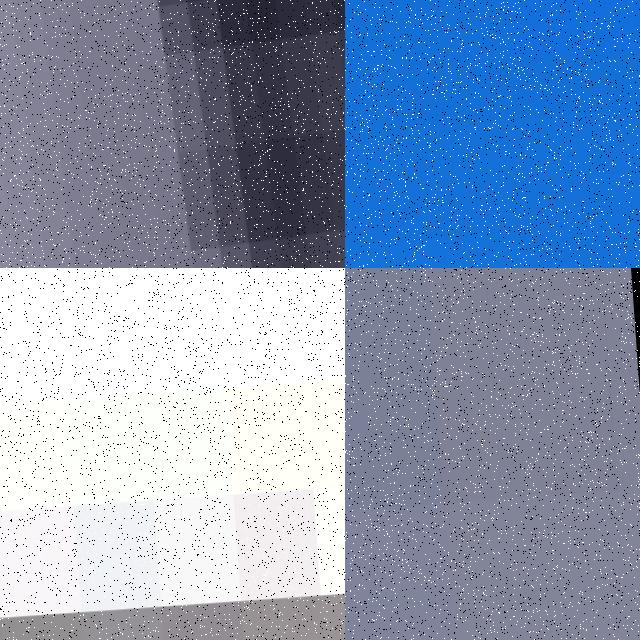drone: (0, 0, 345, 268)
